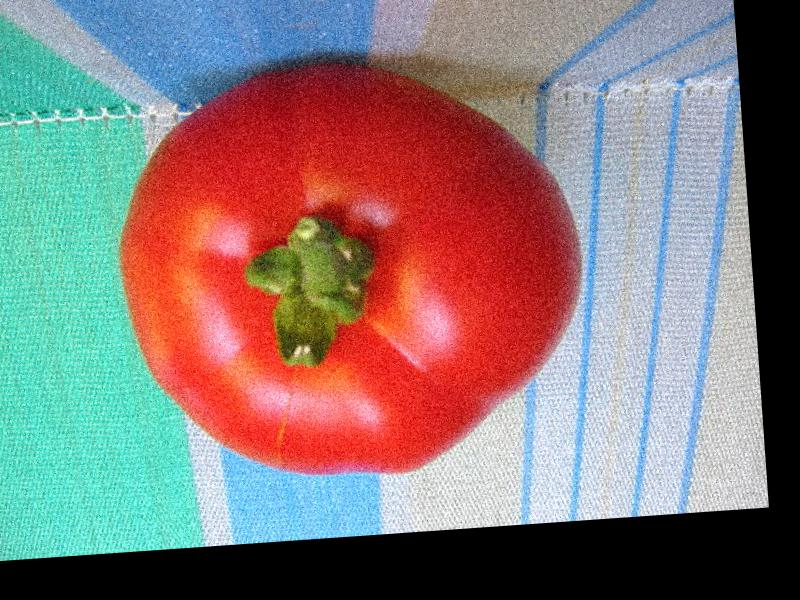Tomato: (108, 44, 591, 491)
